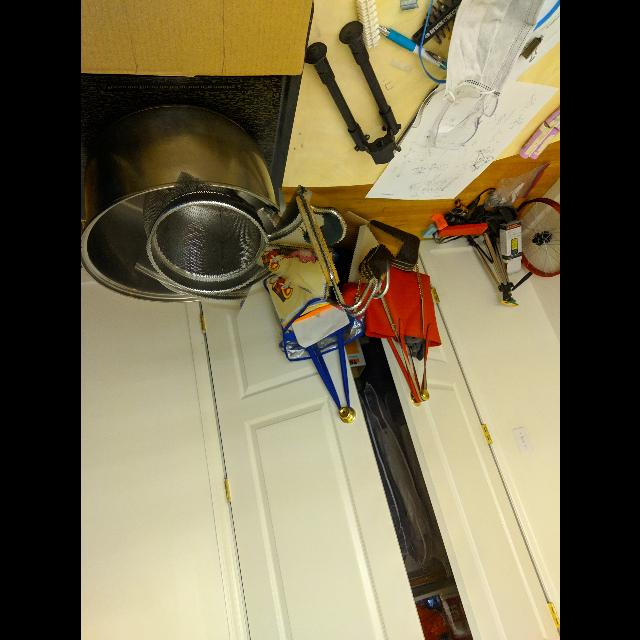Handle: (263, 196, 397, 310)
Strainer: (143, 181, 275, 309)
